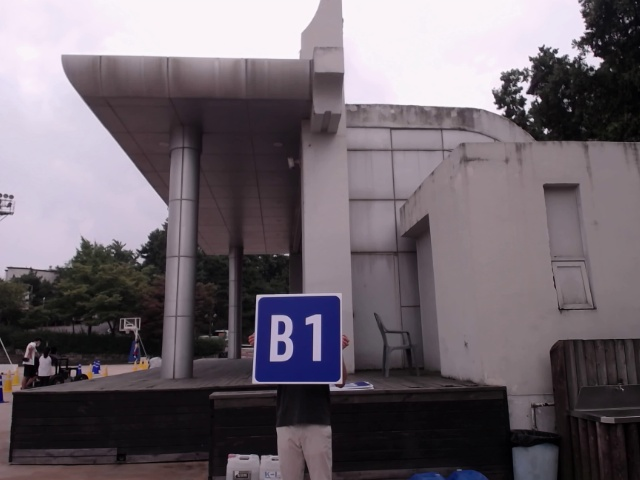delivery_b1: (254, 294, 342, 383)
